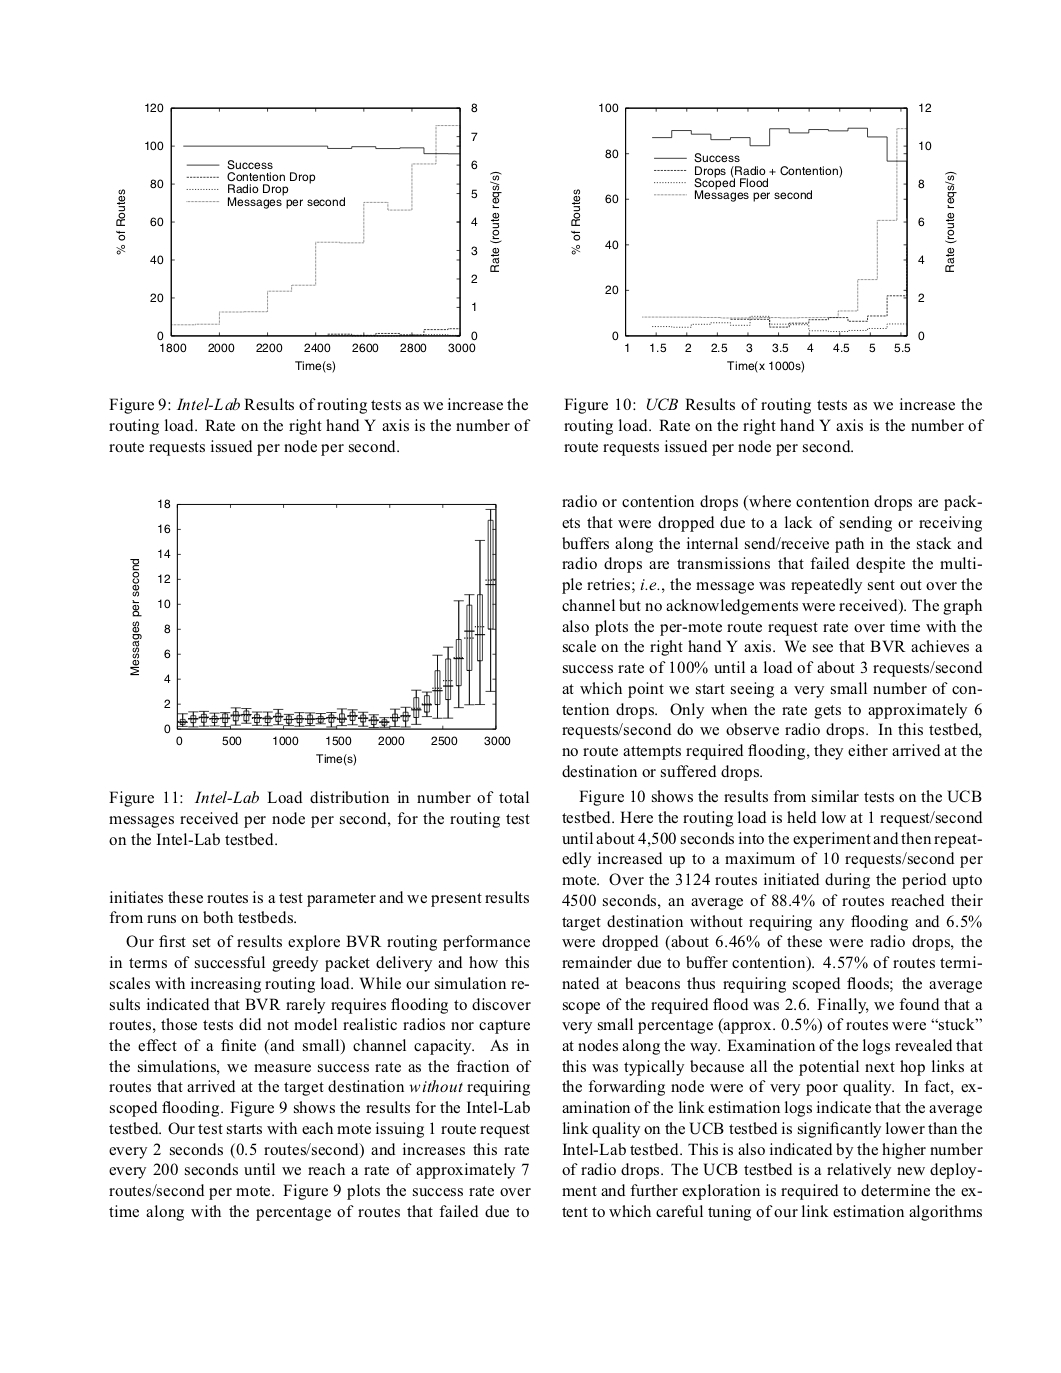figure: (116, 103, 502, 372), (571, 103, 956, 372), (130, 499, 510, 765)
